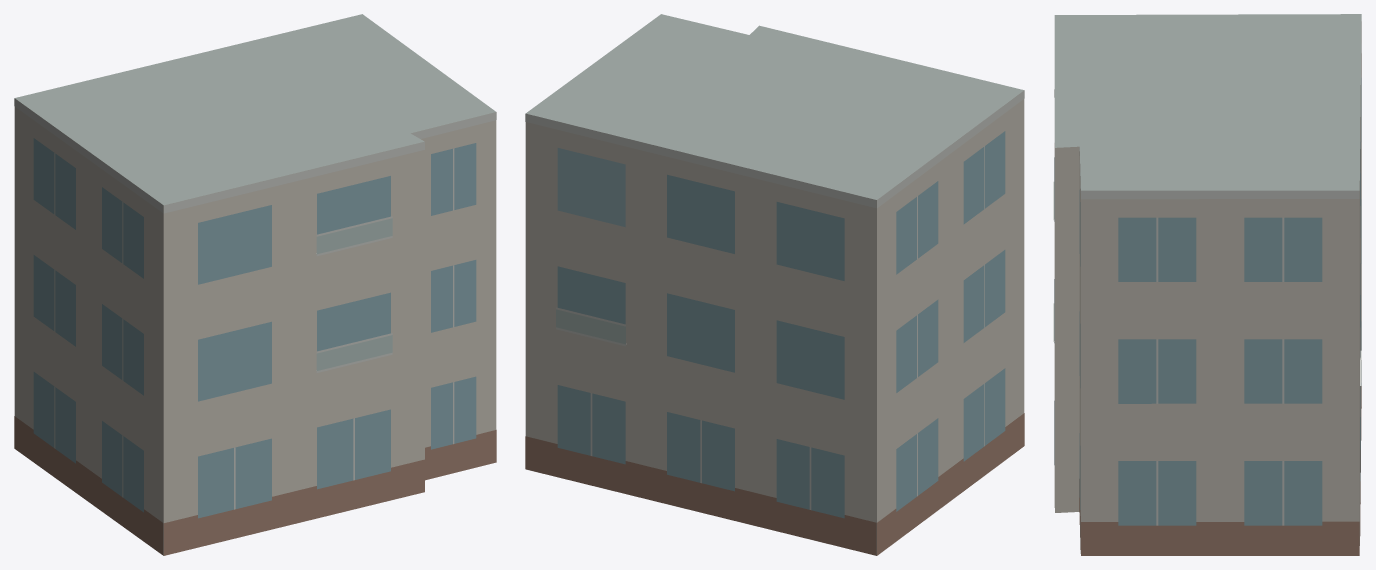
Rendered from survey-upis-33019029.glb.
The picture shows the model from 3 angles, left to right: view 1: azimuth 30°, elevation 25°; view 2: azimuth 150°, elevation 25°; view 3: azimuth 270°, elevation 25°; orthographic projection. The views are drawn at different scales.
Parts seen in each view (by area): view 1: survey-upis-33019029.tmp; view 2: survey-upis-33019029.tmp; view 3: survey-upis-33019029.tmp.
Part boxes in pixels (x1,y1,x2,y2): survey-upis-33019029.tmp: (14,14,496,555); survey-upis-33019029.tmp: (525,14,1024,555); survey-upis-33019029.tmp: (1053,14,1361,555).
Bounding box in the file's own units: 10.8 × 10.4 × 7.96.
